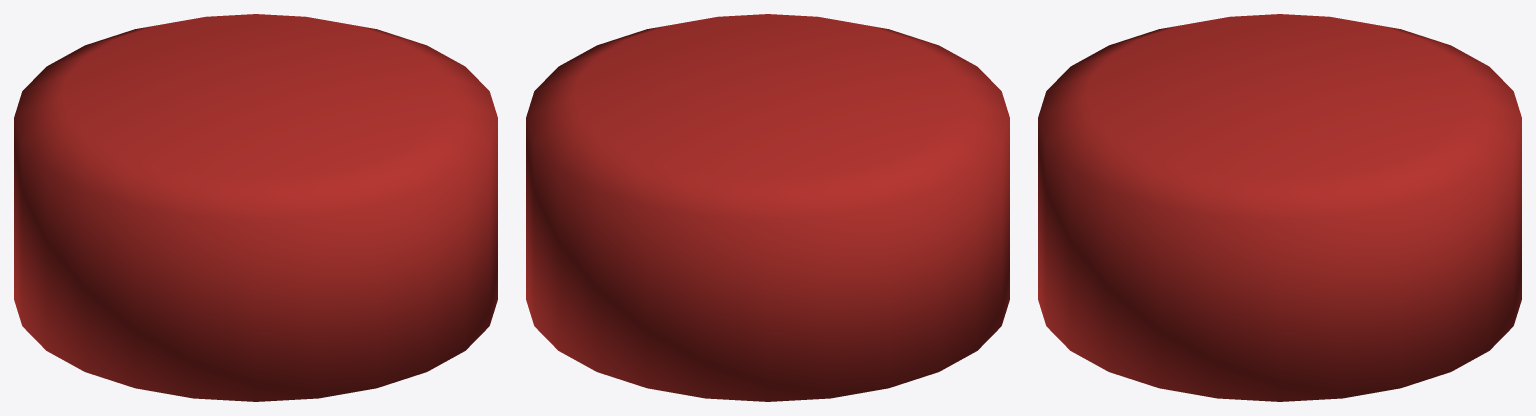
File: explosive-charge.glb
3 views of the same model, side by side, from view 1: azimuth 30°, elevation 25°; view 2: azimuth 150°, elevation 25°; view 3: azimuth 270°, elevation 25° (orthographic).
Parts seen in each view (by area): view 1: canister; view 2: canister; view 3: canister.
Part boxes in pixels (bbox=[...]): canister: bbox=[14, 14, 497, 401]; canister: bbox=[526, 14, 1009, 401]; canister: bbox=[1038, 14, 1521, 401].
Bounding box in the file's own units: 2 × 1 × 2.
